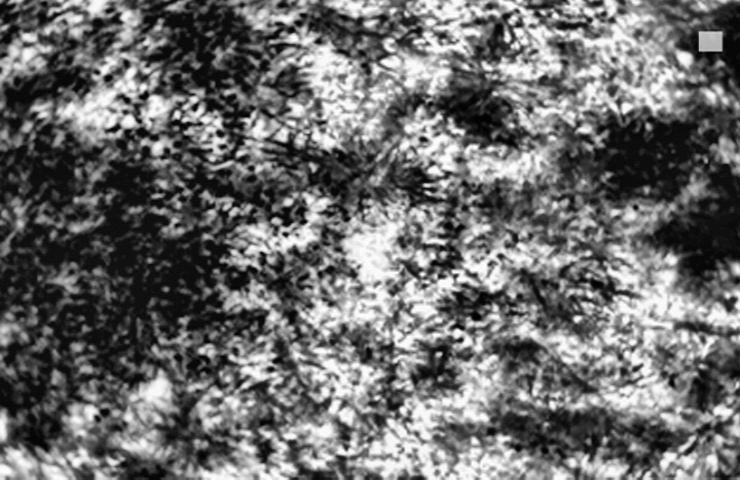landmines: (334, 210, 423, 289)
